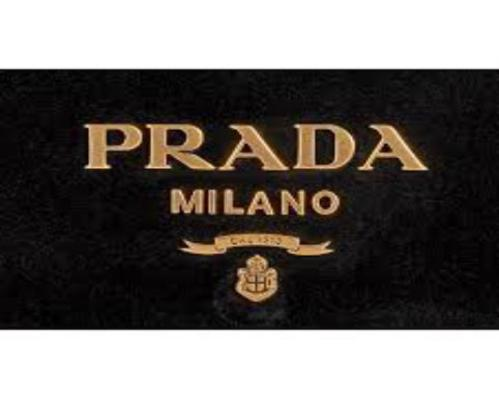PRADA: (75, 115, 432, 173)
